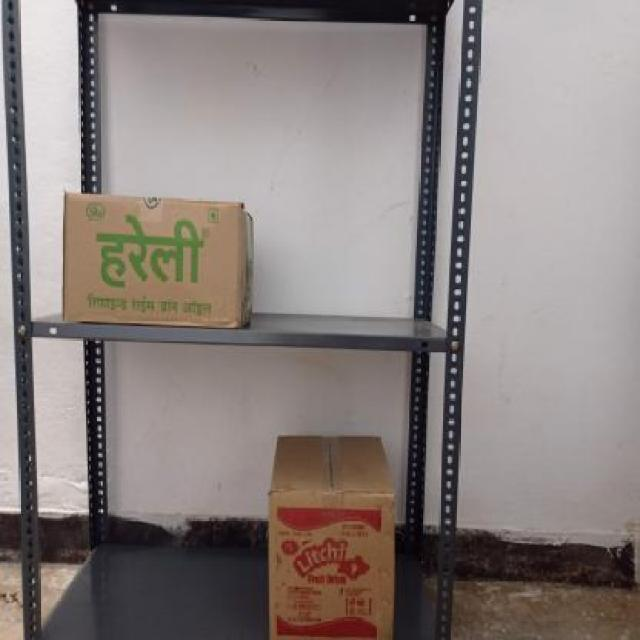box: (61, 192, 242, 328), (268, 492, 394, 640)
